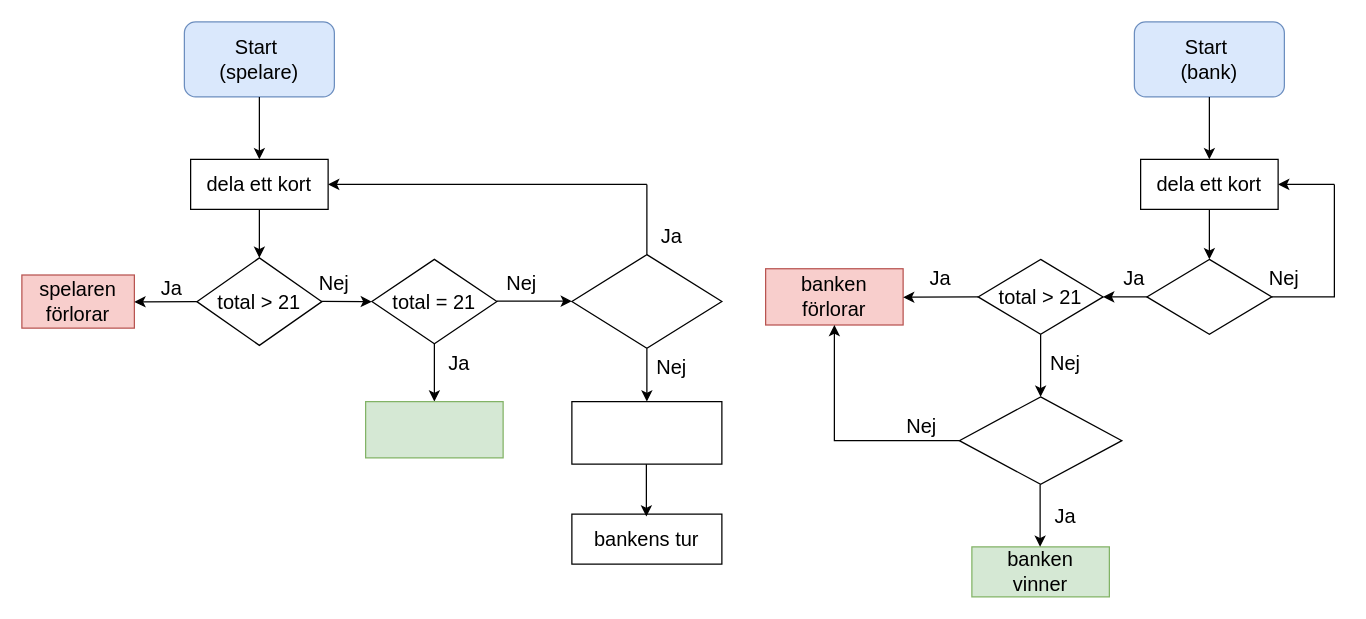
Some shapes in this 1366 by 619 pixel diagram are drawn without their labels. Each missing label, with the box of its shape:
dra ett till kort: (571, 253, 722, 348)
spara spelarens total (s_total): (571, 400, 722, 464)
spelaren vinner: (364, 400, 503, 458)
total ≥ 17: (1146, 258, 1272, 334)
total ≥ s_total: (958, 396, 1122, 484)
